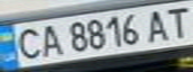1: (103, 12, 124, 47)
6: (118, 10, 145, 46)
8: (63, 18, 90, 53), (84, 16, 106, 51)
A: (142, 7, 175, 43), (33, 21, 66, 57)
C: (6, 25, 45, 61)
T: (160, 3, 193, 38)
